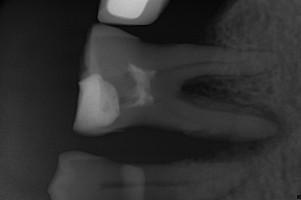Dental Caries: (214, 102, 281, 162), (180, 76, 239, 107)
